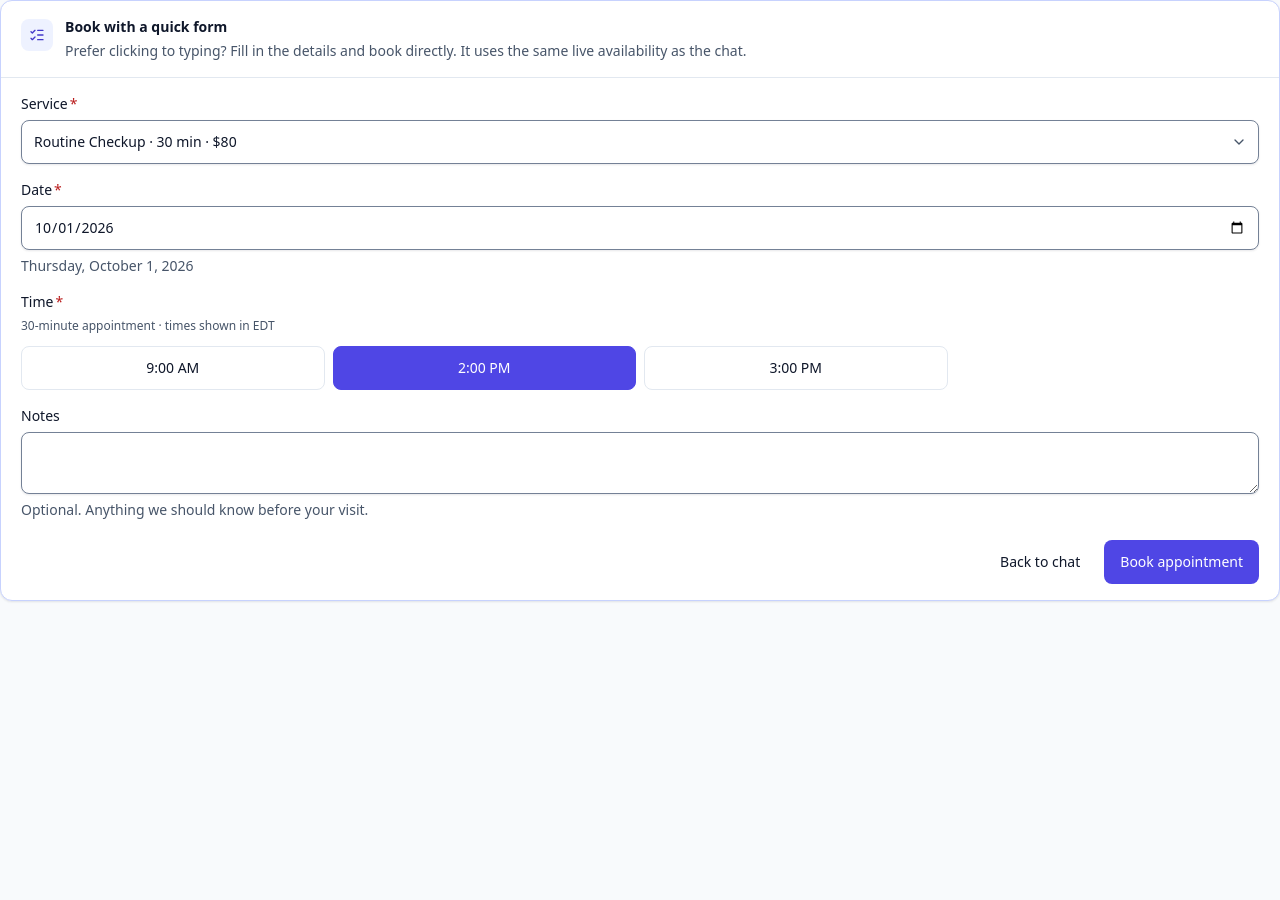
Test: FallbackFormCard › rejects a date before today in the business timezone
The image size is (1280, 900).
Click the button "Book appointment". click: {"x": 1182, "y": 562}
box: [1104, 540, 1259, 584]
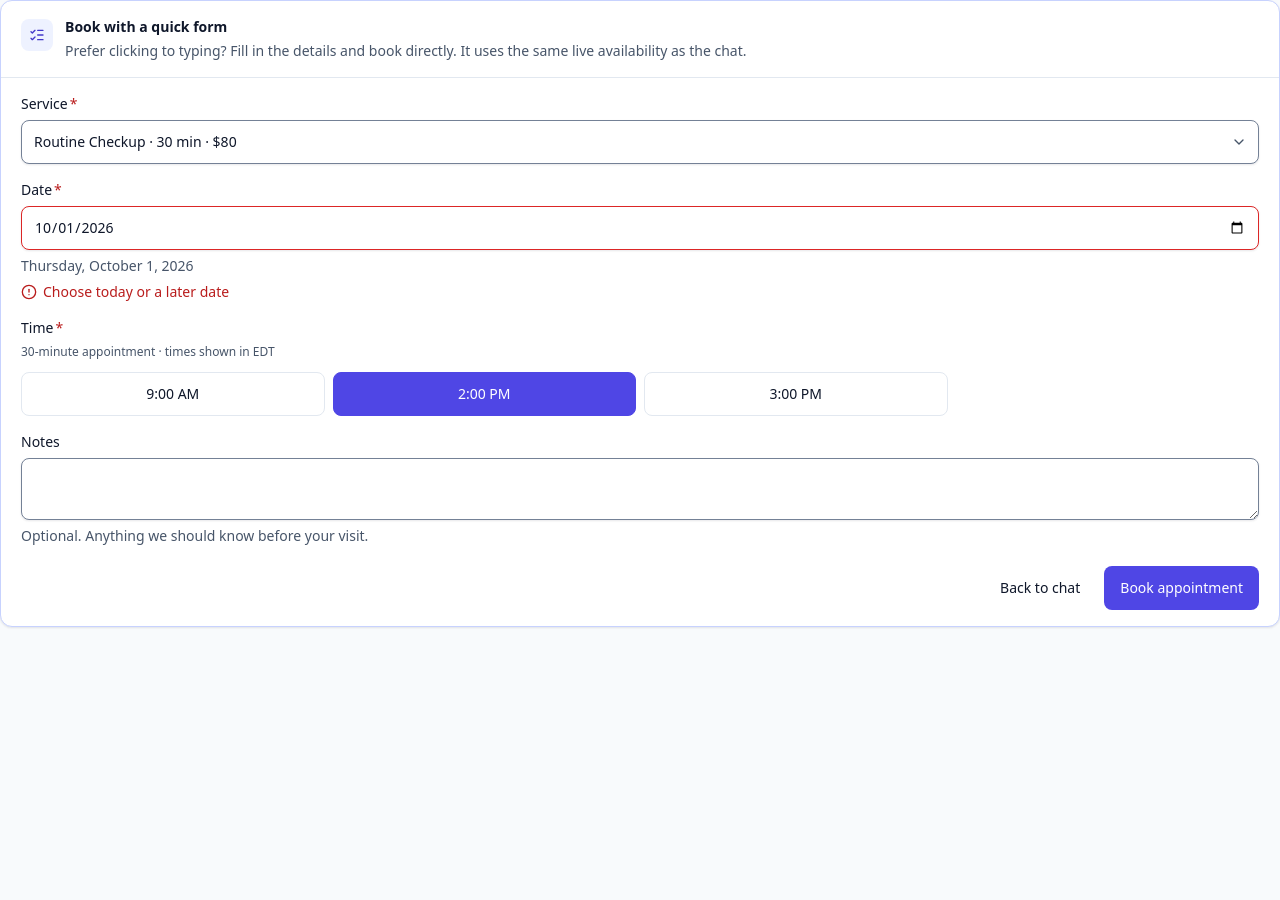
Now the text "Choose today or a later date" is shown, box [21, 282, 229, 301]
